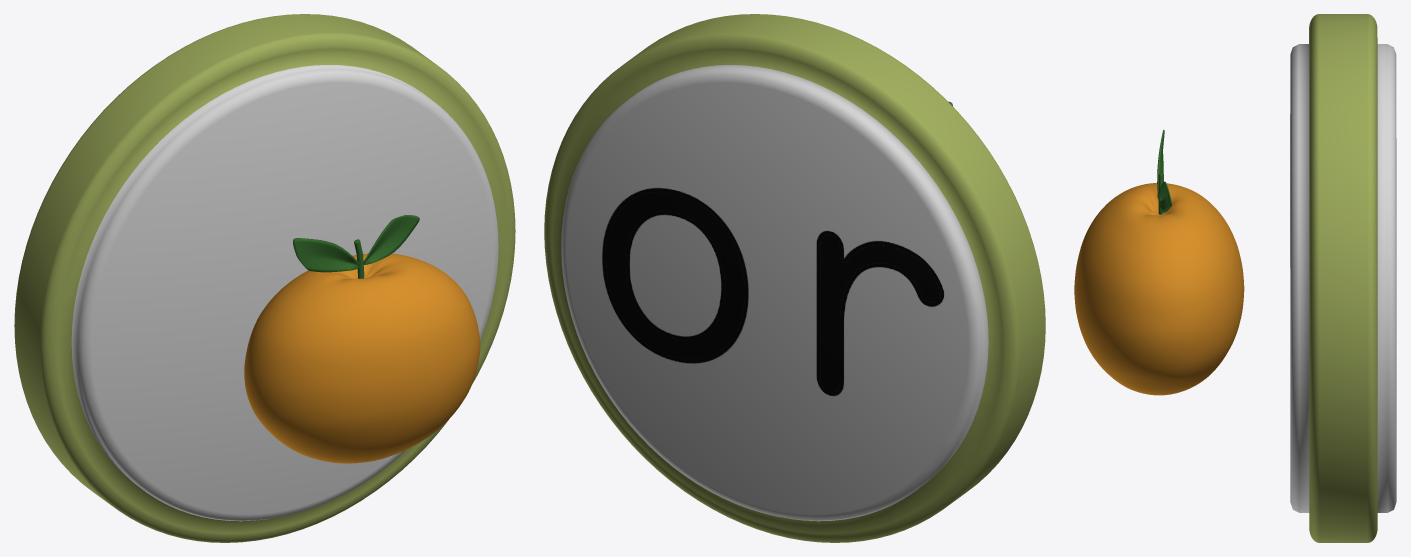
File: orange3.gltf
3 views of the same model, side by side, from view 1: azimuth 30°, elevation 25°; view 2: azimuth 150°, elevation 25°; view 3: azimuth 270°, elevation 25° (orthographic). The views are drawn at different scales.
Parts seen in each view (by area): view 1: coin, Sphere, Cylinder.002; view 2: coin; view 3: coin, Sphere, Cylinder.002.
Part boxes in pixels (left/top/right/bottom): coin: left=14, top=14, right=515, bottom=542; Sphere: left=244, top=253, right=480, bottom=463; Cylinder.002: left=293, top=215, right=419, bottom=278; coin: left=544, top=14, right=1045, bottom=542; coin: left=1290, top=14, right=1396, bottom=542; Sphere: left=1074, top=183, right=1244, bottom=395; Cylinder.002: left=1157, top=130, right=1171, bottom=214.
Bounding box in the file's own units: 2.56 × 2.56 × 1.56.
5 materials, 1 textured.
